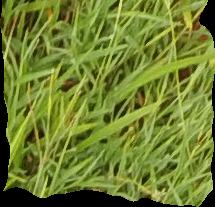grass: (1, 1, 214, 206)
